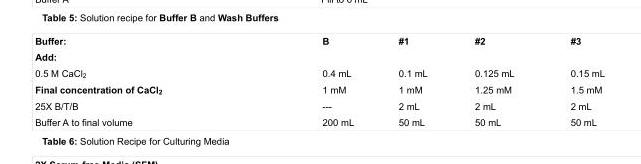table: (34, 35, 604, 127)
table column: (34, 35, 241, 127), (241, 35, 375, 127), (450, 35, 541, 127), (375, 35, 450, 127), (541, 35, 604, 127)
table projected row header: (34, 48, 604, 64)
table row: (34, 64, 604, 81), (34, 48, 604, 64), (34, 81, 604, 97), (34, 97, 604, 113), (34, 113, 604, 127), (34, 35, 604, 48)
